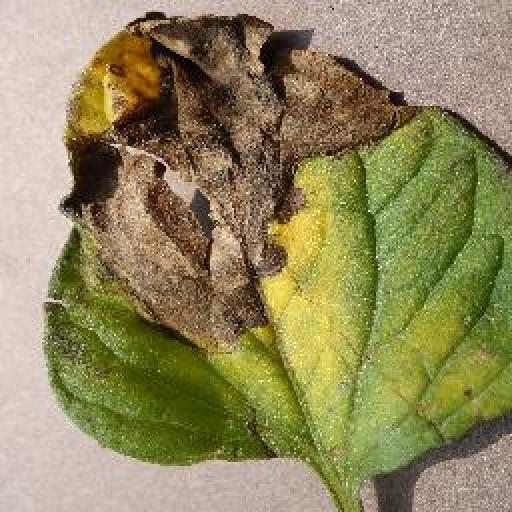Late Blight: (45, 14, 512, 474)
